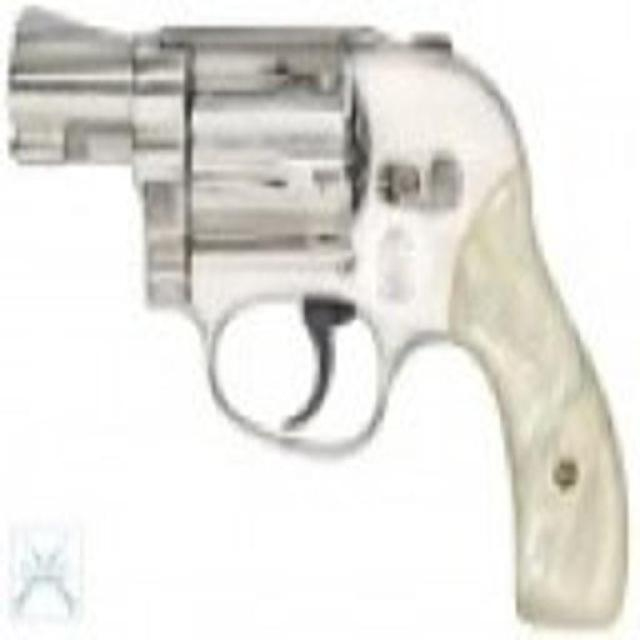pistol: (7, 10, 620, 629)
